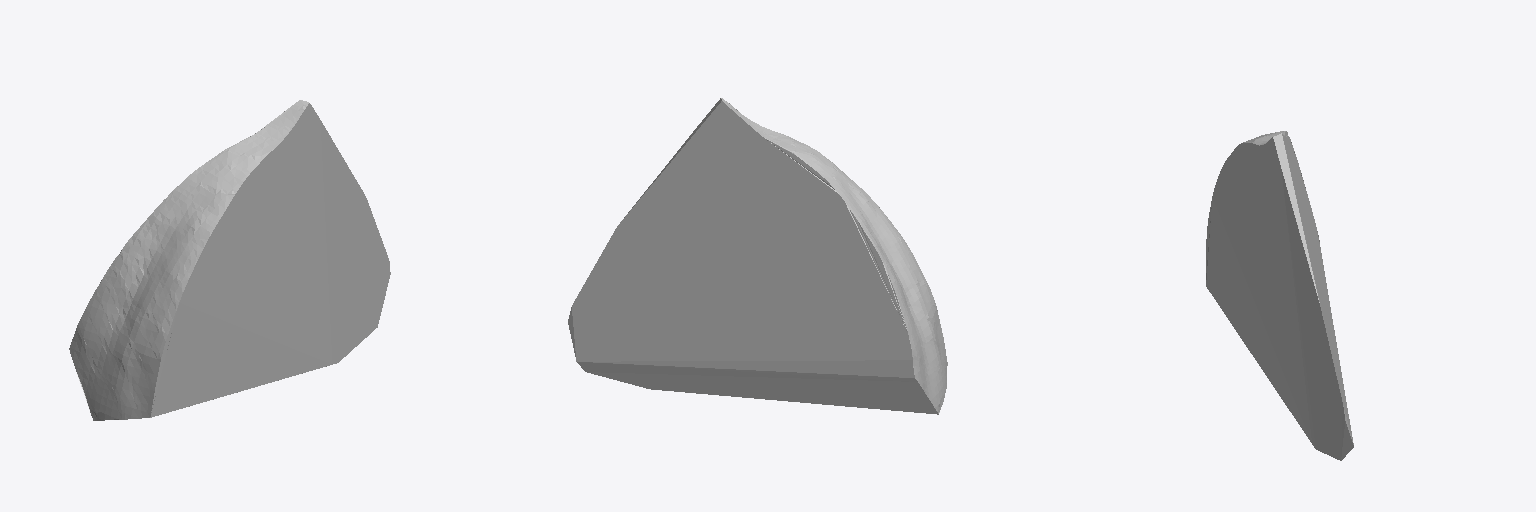
Rendered from low_cell_018.obj.
3 renders of one model, left to right at view 1: azimuth 30°, elevation 25°; view 2: azimuth 150°, elevation 25°; view 3: azimuth 270°, elevation 25°, orthographic.
Visible parts, largest first — view 1: low_cell.018_low_cell.017; view 2: low_cell.018_low_cell.017; view 3: low_cell.018_low_cell.017.
Boxes of the visible parts, x1,y1,x2,y2 form: low_cell.018_low_cell.017: [69, 100, 390, 420]; low_cell.018_low_cell.017: [568, 98, 947, 414]; low_cell.018_low_cell.017: [1206, 131, 1353, 460].
Bounding box in the file's own units: 0.969 × 0.8005 × 0.3722.